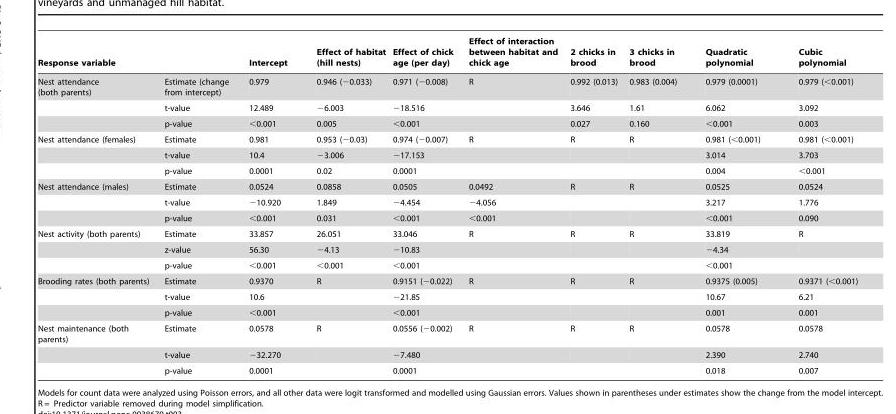table: (37, 36, 858, 374)
table column: (37, 36, 157, 374), (461, 36, 564, 374), (691, 36, 779, 374), (302, 36, 389, 374), (157, 36, 239, 374), (779, 36, 858, 374), (389, 36, 461, 374), (623, 36, 691, 374), (239, 36, 302, 374), (564, 36, 623, 374)
table column header: (37, 36, 858, 71)
table row: (37, 36, 858, 71), (37, 71, 858, 99), (37, 320, 858, 346), (37, 99, 858, 115), (37, 115, 858, 131), (37, 131, 858, 147), (37, 162, 858, 178), (37, 178, 858, 194), (37, 194, 858, 210), (37, 225, 858, 241), (37, 241, 858, 257), (37, 257, 858, 273), (37, 288, 858, 304), (37, 304, 858, 320), (37, 346, 858, 362), (37, 147, 858, 162), (37, 210, 858, 225), (37, 273, 858, 288), (37, 362, 858, 374)
table spanning cell: (37, 71, 157, 131), (37, 320, 157, 374), (37, 225, 157, 273), (37, 131, 157, 178), (37, 178, 157, 225), (37, 273, 157, 320)
